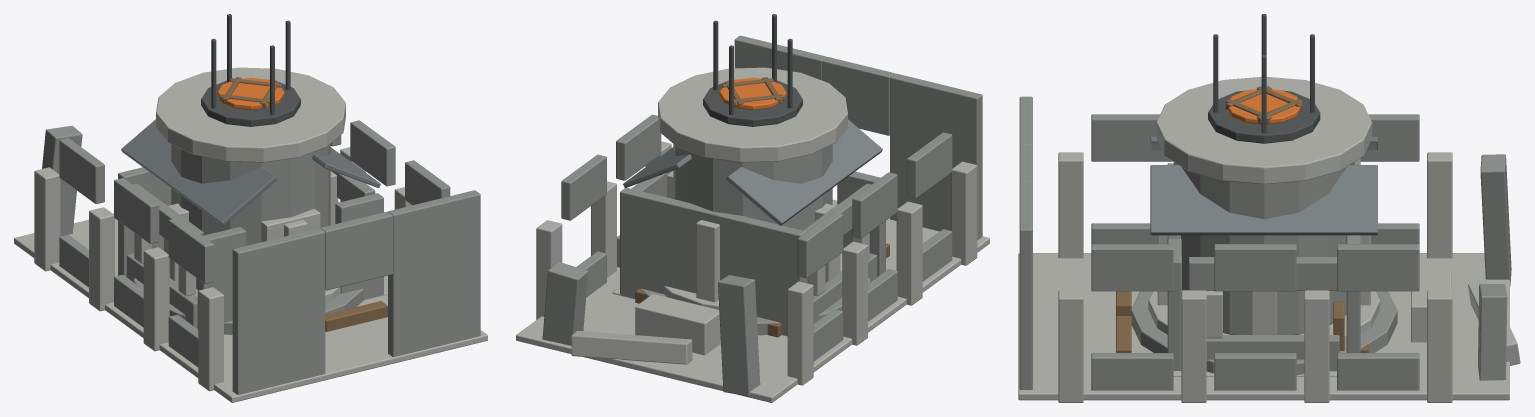
Rendered from stormbreak_environment_kit_v1.glb.
3 views of the same model, side by side, from view 1: azimuth 30°, elevation 25°; view 2: azimuth 150°, elevation 25°; view 3: azimuth 270°, elevation 25° (orthographic). The views are drawn at different scales.
Parts seen in each view (by area): view 1: ShatteredChoir, StormbreakBeacon, StormbreakShelter; view 2: ShatteredChoir, StormbreakBeacon, StormbreakShelter; view 3: ShatteredChoir, StormbreakBeacon, StormbreakShelter.
Boxes of the visible parts, left/top/right/bottom form: ShatteredChoir: left=14, top=120, right=487, bottom=402; StormbreakBeacon: left=133, top=14, right=363, bottom=334; StormbreakShelter: left=115, top=119, right=387, bottom=329; ShatteredChoir: left=516, top=35, right=989, bottom=402; StormbreakBeacon: left=640, top=14, right=870, bottom=335; StormbreakShelter: left=612, top=119, right=885, bottom=336; ShatteredChoir: left=1018, top=96, right=1520, bottom=402; StormbreakBeacon: left=1130, top=14, right=1397, bottom=375; StormbreakShelter: left=1150, top=136, right=1377, bottom=376.
Size of the model in its own units: 19.75 by 18.64 by 28.6.
